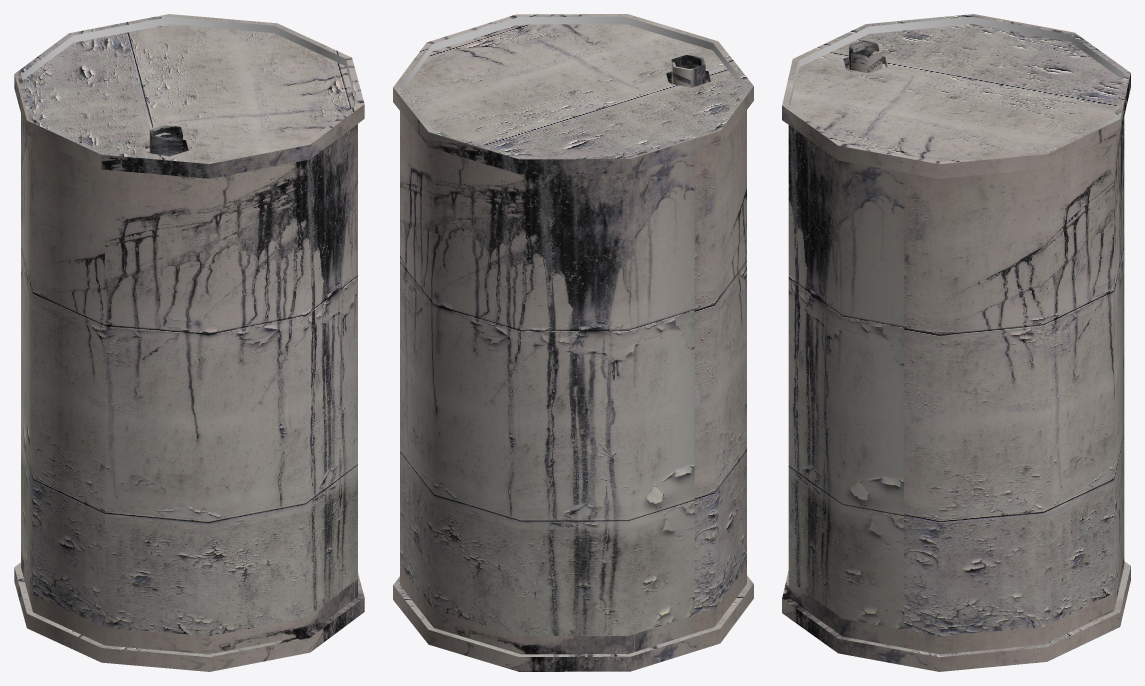
Rendered from OilBarrel.dae.
3 renders of one model, left to right at view 1: azimuth 30°, elevation 25°; view 2: azimuth 150°, elevation 25°; view 3: azimuth 270°, elevation 25°, orthographic.
Parts seen in each view (by area): view 1: group_0 (×6); view 2: group_0 (×6); view 3: group_0 (×6).
Part boxes in pixels (x1,y1,x2,y2): group_0 (×6): [14, 14, 364, 671]; group_0 (×6): [393, 14, 753, 671]; group_0 (×6): [782, 14, 1130, 671].
Bounding box in the file's own units: 26.54 × 26.03 × 42.41.
Materials: 2 (1 with a texture image).
